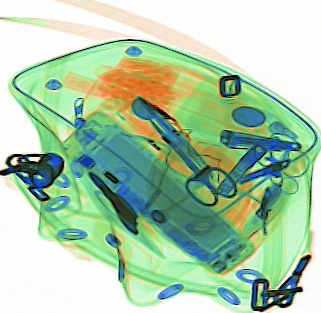scissors: (147, 115, 238, 206)
